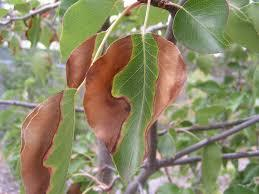root_rot: (23, 7, 191, 189)
